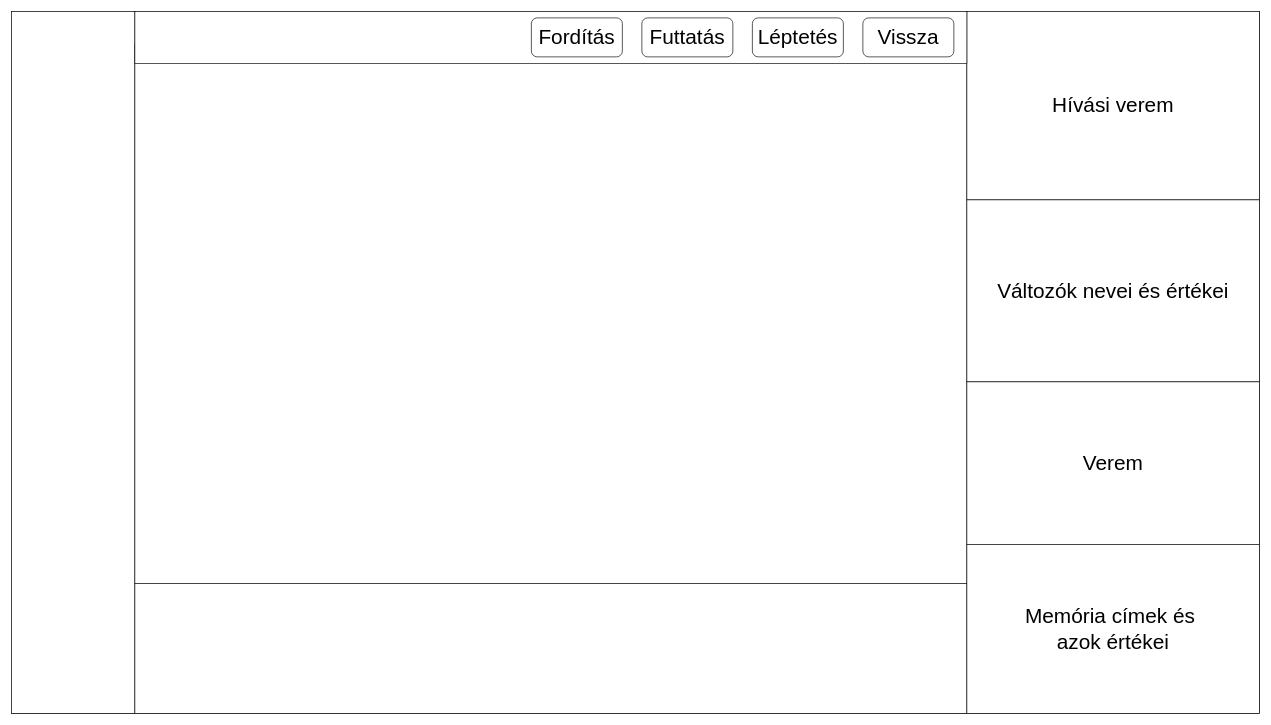
The diagram is 1271 pixels wide and 725 high, and some of its shapes have lost their labels. The shapes that lost their labels are listed below. From the top down, each one's box as (x1, y1, x2, y2) in pixels, then its label:
(134, 43, 967, 583): Szerkesztő
(11, 11, 135, 713): Algoritmus-választó
(134, 583, 967, 713): Kimenet / Hibaüzenetek
